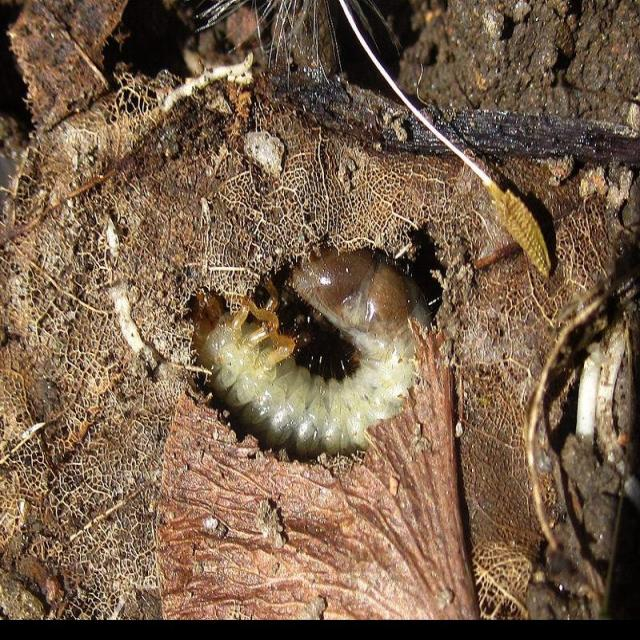grub: (186, 242, 432, 453)
